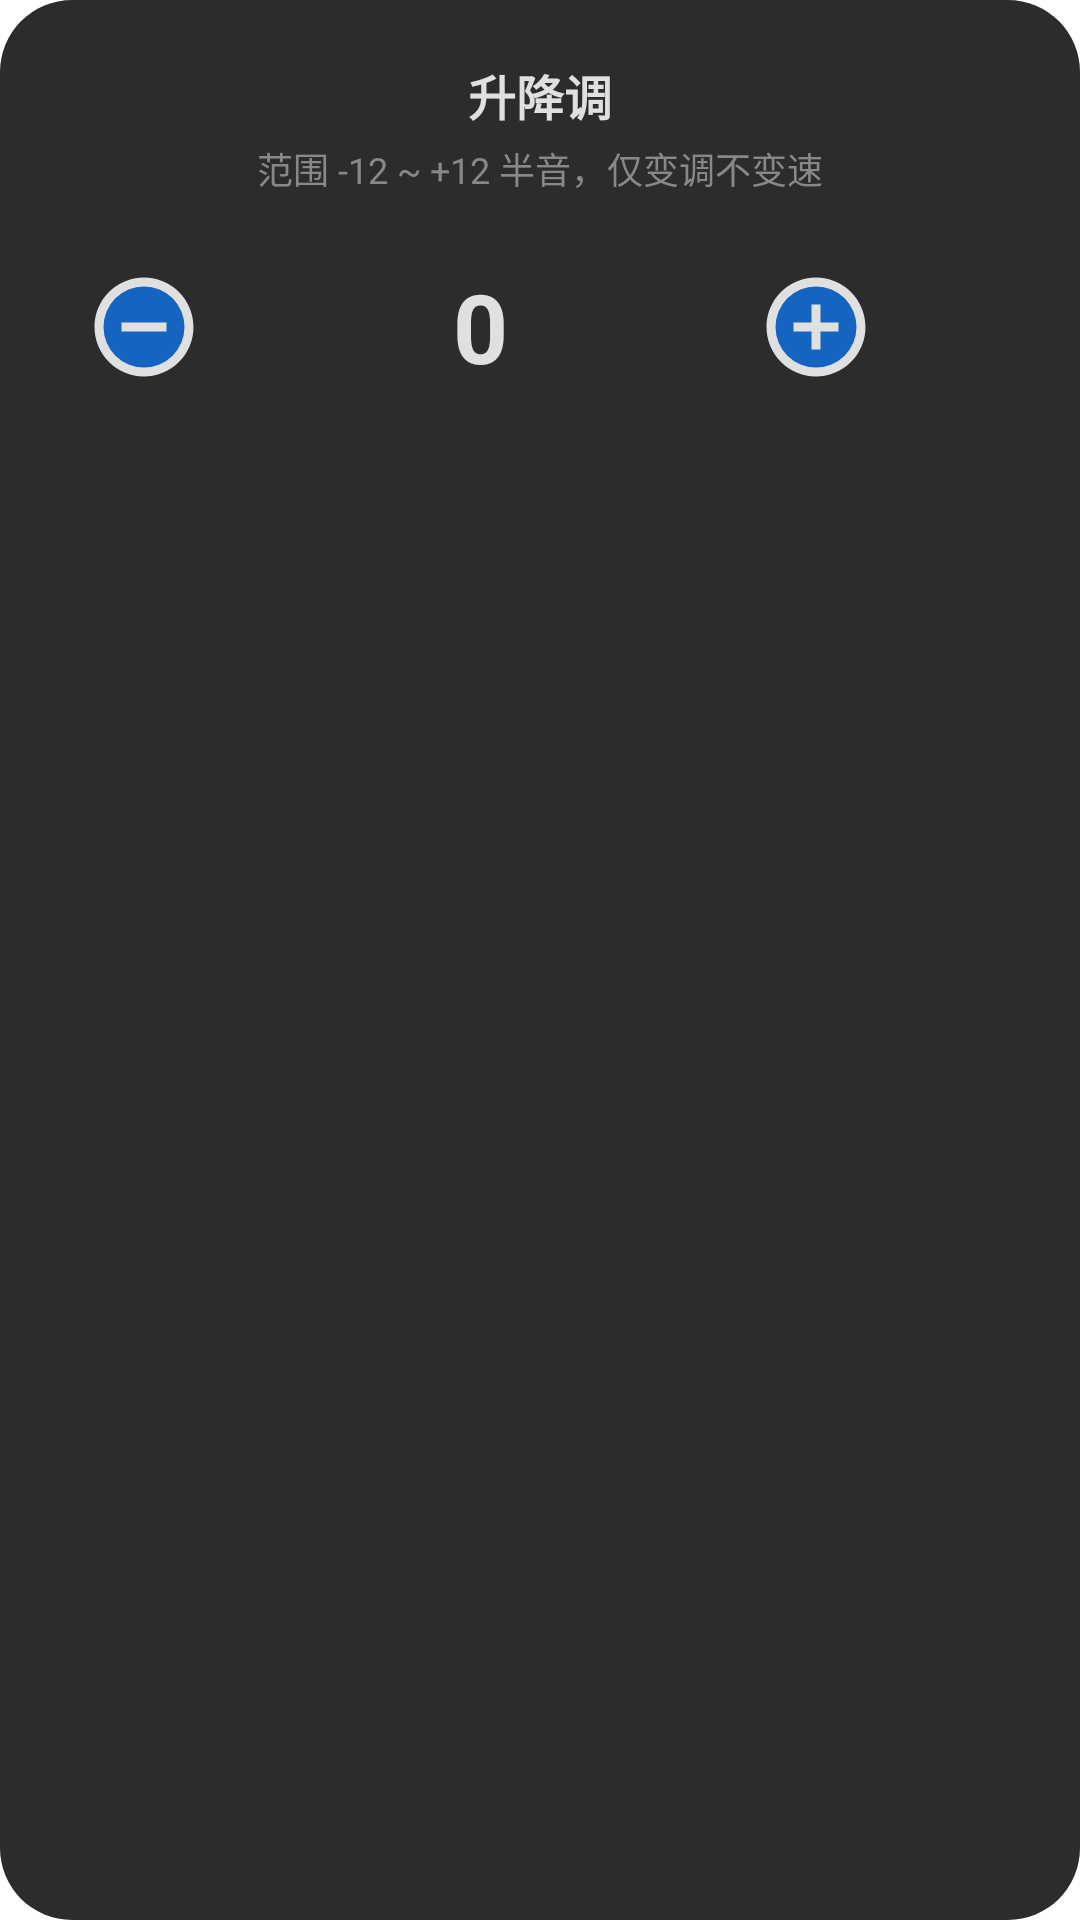

Locate icon controls on the screen. Image size 1080 × 1920, boxes as (x1, y1, x2, y2).
升半音: (766, 277, 866, 377)
降半音: (94, 277, 194, 377)
